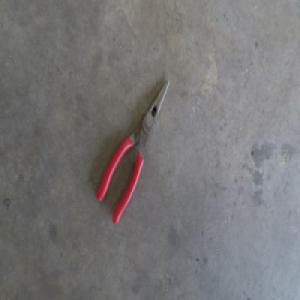Pliers: (96, 76, 171, 225)
